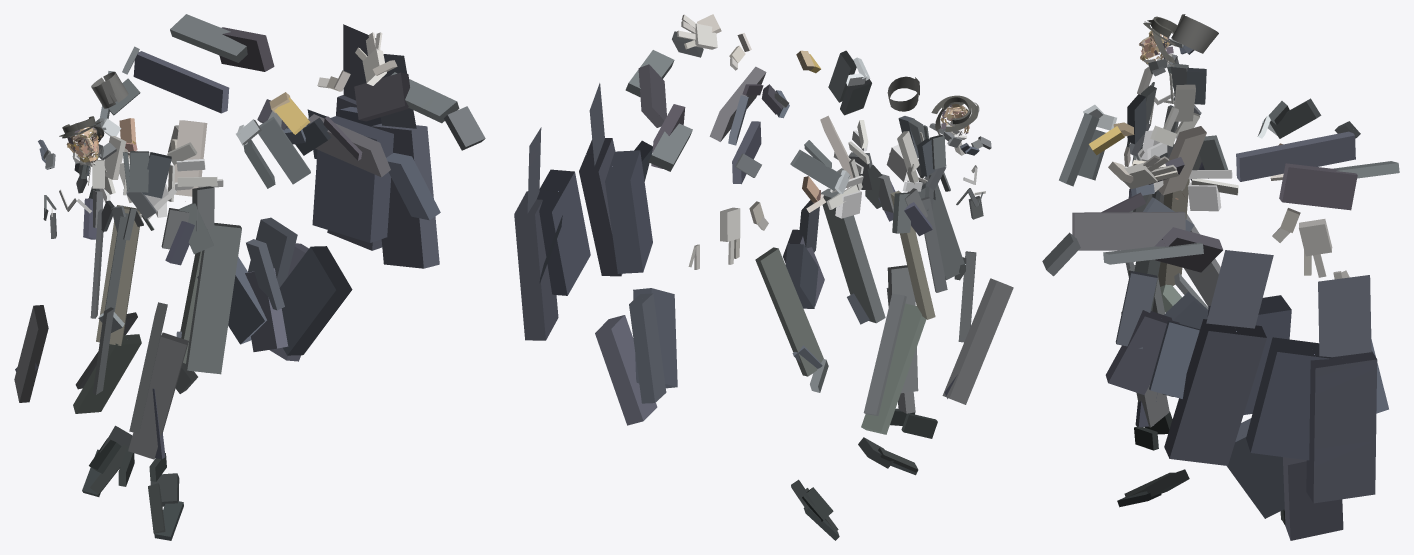
3 views of the same model, side by side, from view 1: azimuth 30°, elevation 25°; view 2: azimuth 150°, elevation 25°; view 3: azimuth 270°, elevation 25° (orthographic). The views are drawn at different scales.
Visible parts, largest first — view 1: brush_SquarePaper_g1_b0, brush_Flat_g1_b0, brush_Flat_g2_b0; view 2: brush_SquarePaper_g1_b0, brush_Flat_g1_b0; view 3: brush_SquarePaper_g1_b0, brush_Flat_g1_b0, brush_Flat_g2_b0.
Boxes of the visible parts, bbox=[...] form: brush_SquarePaper_g1_b0: bbox=[14, 14, 485, 540]; brush_Flat_g1_b0: bbox=[15, 24, 416, 371]; brush_Flat_g2_b0: bbox=[66, 127, 98, 162]; brush_SquarePaper_g1_b0: bbox=[514, 14, 1013, 540]; brush_Flat_g1_b0: bbox=[527, 76, 979, 398]; brush_SquarePaper_g1_b0: bbox=[1042, 16, 1399, 540]; brush_Flat_g1_b0: bbox=[1143, 14, 1388, 413]; brush_Flat_g2_b0: bbox=[1139, 30, 1173, 63].
Size of the model in its own units: 2.3 by 2.31 by 1.52.
Materials: 2 (1 with a texture image).
